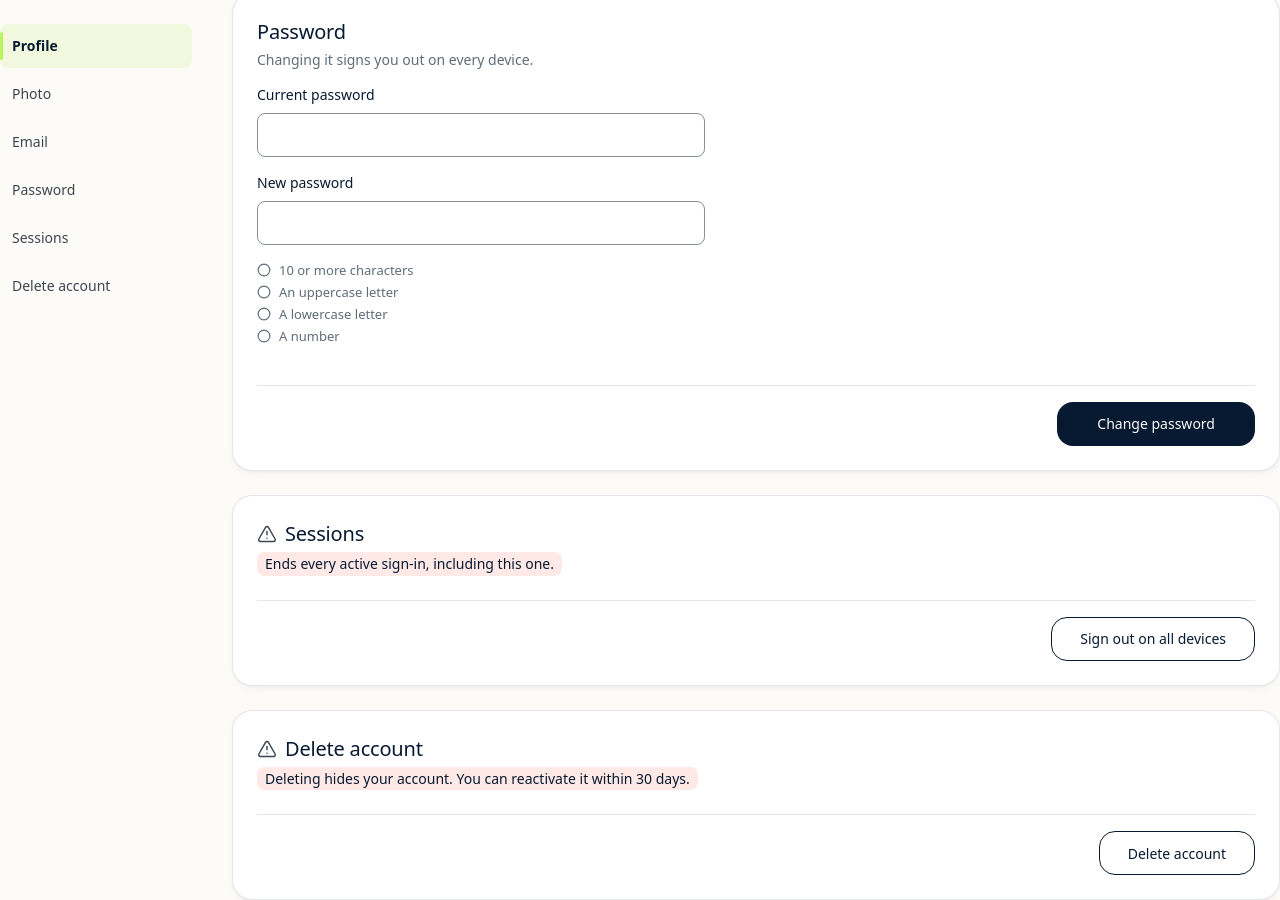
Test case: delete with open bookings keeps the dialog open with the 409 message
The width and height of the screenshot is (1280, 900).
(page scrolled)
Click the button "Delete account".
click(1177, 854)  # box [1099,832,1255,876]
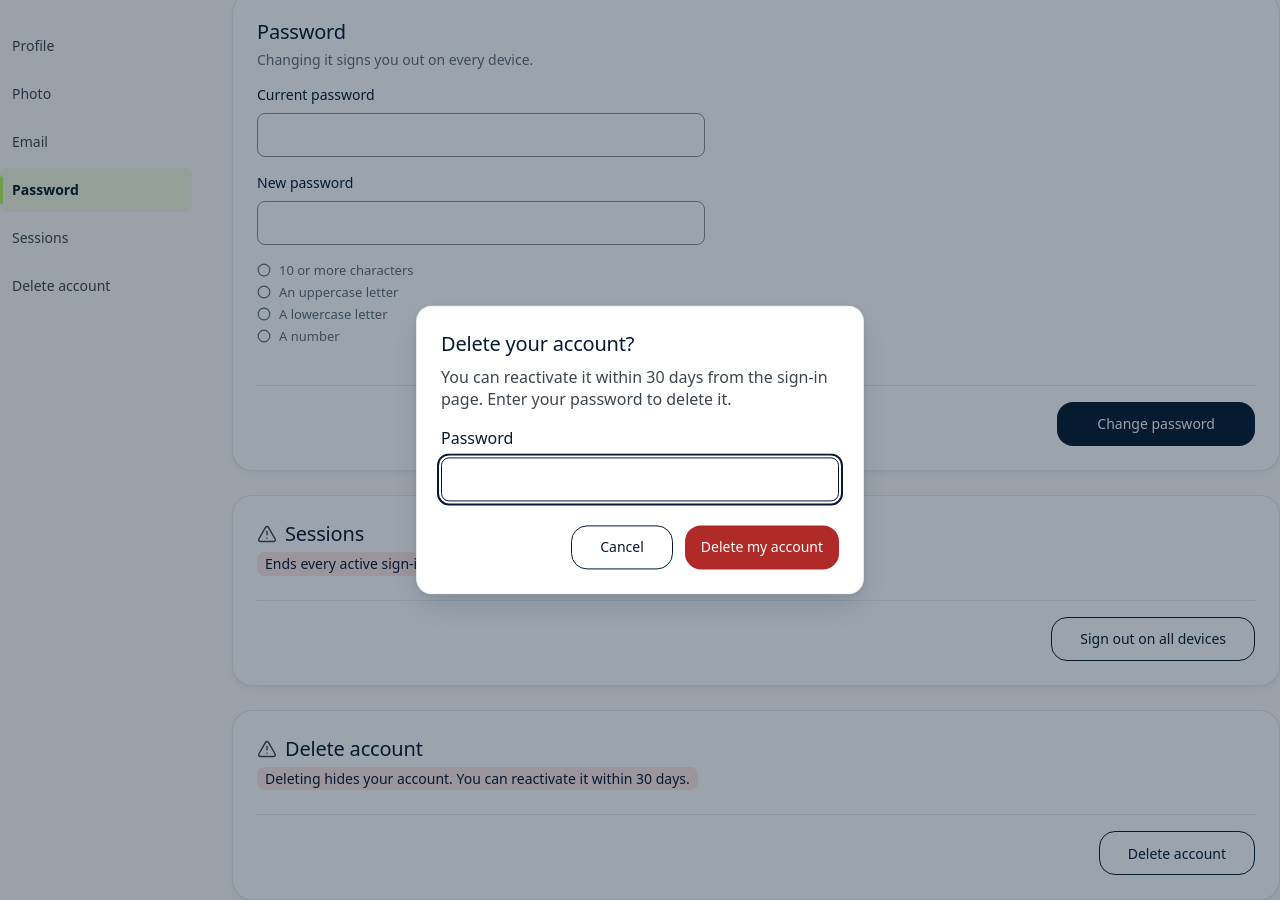
Type "OldPassw0rd!" into the password field labelled "Password".
click(640, 480); type("OldPassw0rd!")  # box [441,458,839,502]
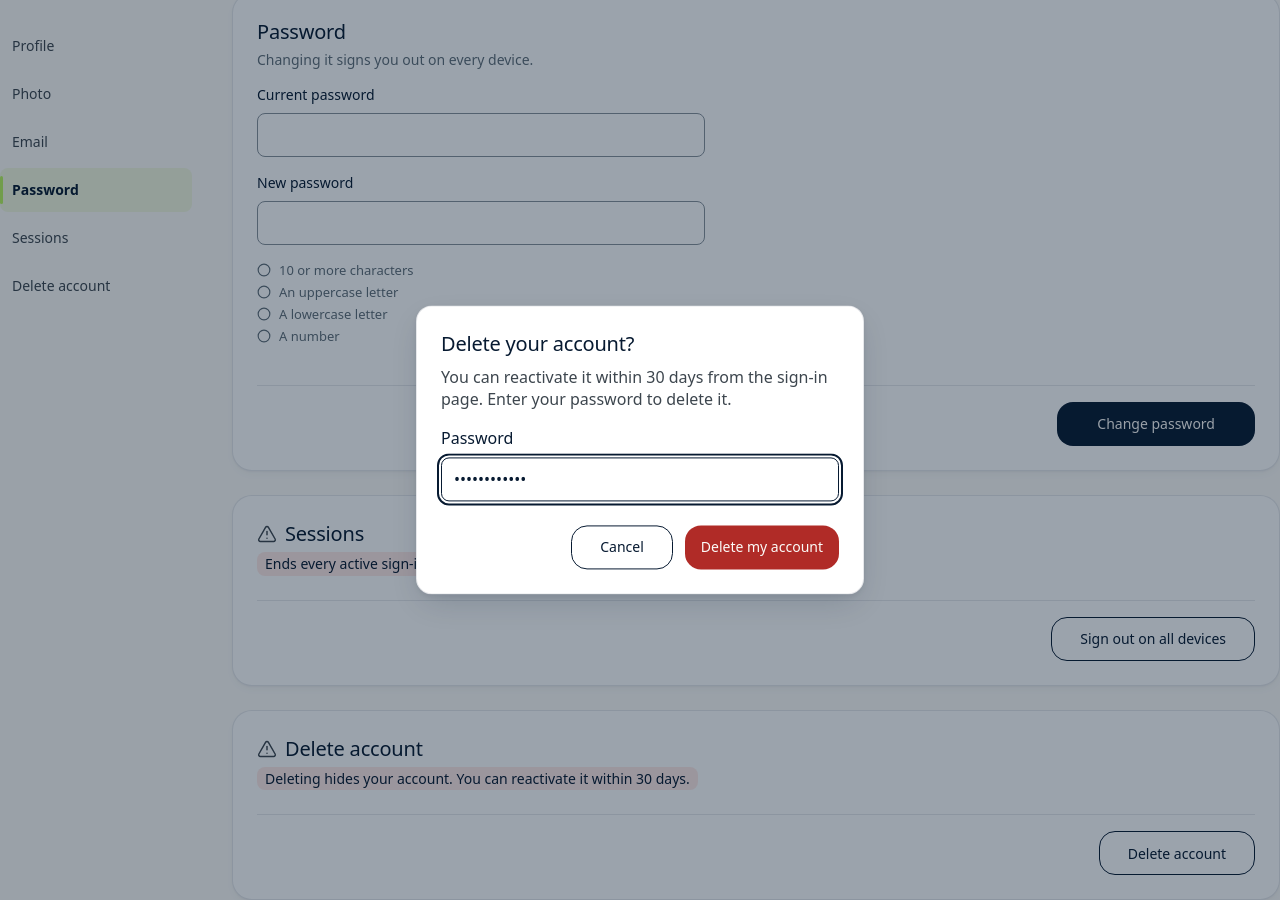
Click the button "Delete my account".
click(762, 548)  # box [685,526,839,570]
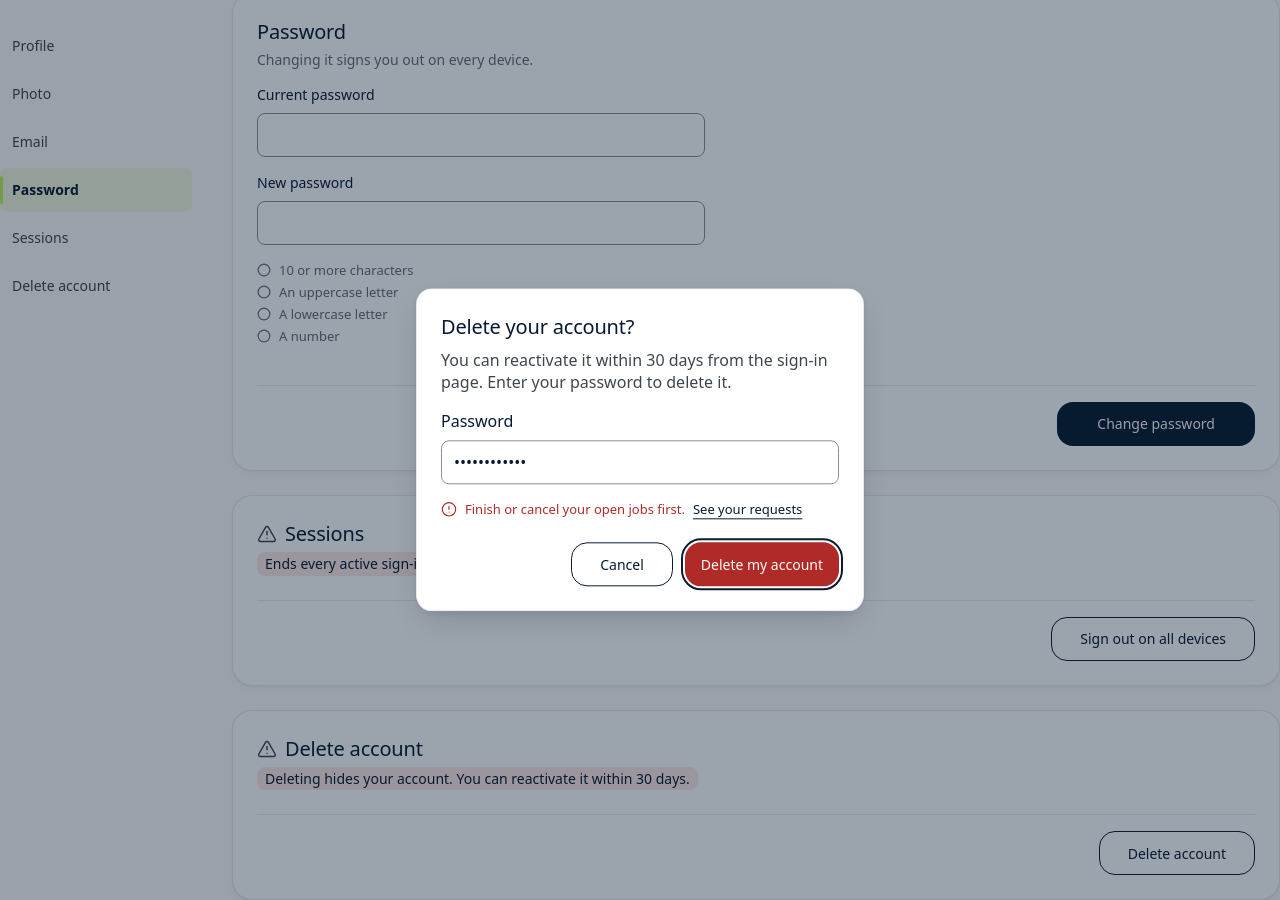
Expected: the text "Finish or cancel your open jobs first. See your requests" is shown, [441,500,839,519]
